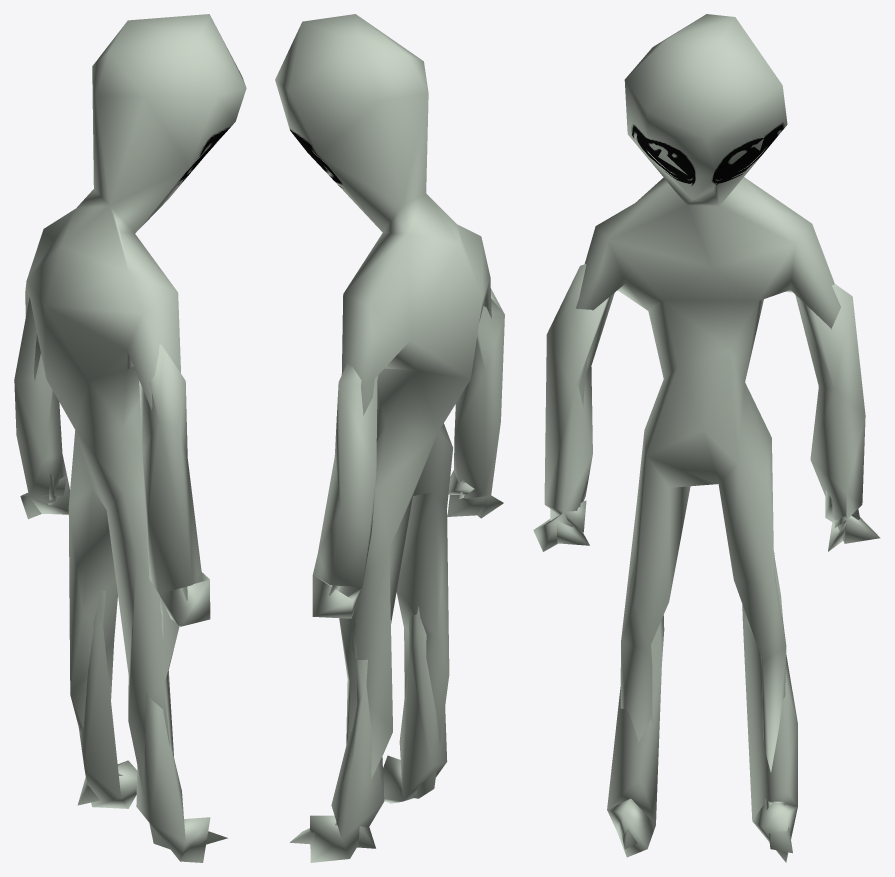
The model's file is alien.obj.
3 renders of one model, left to right at view 1: azimuth 30°, elevation 25°; view 2: azimuth 150°, elevation 25°; view 3: azimuth 270°, elevation 25°, orthographic. The views are drawn at different scales.
Parts seen in each view (by area): view 1: Alien_alien_11; view 2: Alien_alien_11; view 3: Alien_alien_11.
Part boxes in pixels (left/top/right/bottom): Alien_alien_11: left=14, top=14, right=246, bottom=862; Alien_alien_11: left=275, top=14, right=504, bottom=862; Alien_alien_11: left=533, top=14, right=880, bottom=862.
Size of the model in its own units: 0.3361 by 1.28 by 0.4852.
